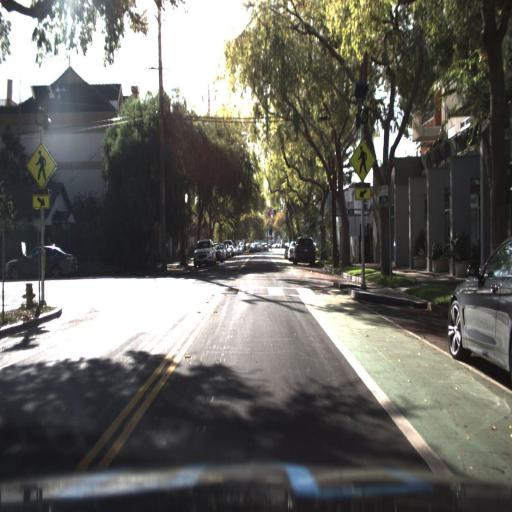car: (446, 230, 512, 388), (3, 243, 79, 288), (190, 236, 215, 269), (291, 236, 314, 266), (294, 235, 316, 266)
